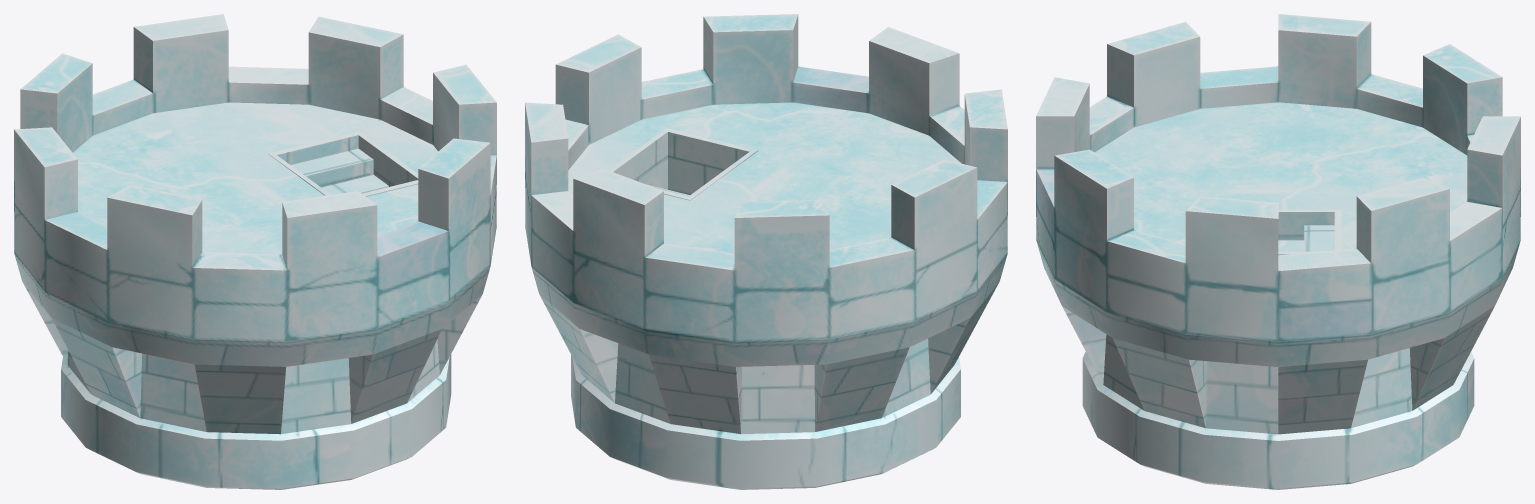
File: sb_obj_outdoor023_IceCastle01_CircleWallTop02.fbx
3 renders of one model, left to right at view 1: azimuth 30°, elevation 25°; view 2: azimuth 150°, elevation 25°; view 3: azimuth 270°, elevation 25°, orthographic.
Visible parts, largest first — view 1: sb_obj_outdoor023_IceCastle01_CircleWallTop02; view 2: sb_obj_outdoor023_IceCastle01_CircleWallTop02; view 3: sb_obj_outdoor023_IceCastle01_CircleWallTop02.
Boxes of the visible parts, x1,y1,x2,y2 form: sb_obj_outdoor023_IceCastle01_CircleWallTop02: (14,14,496,489); sb_obj_outdoor023_IceCastle01_CircleWallTop02: (525,14,1007,489); sb_obj_outdoor023_IceCastle01_CircleWallTop02: (1036,14,1520,489).
Size of the model in its own units: 3.83 by 2.55 by 3.83.
